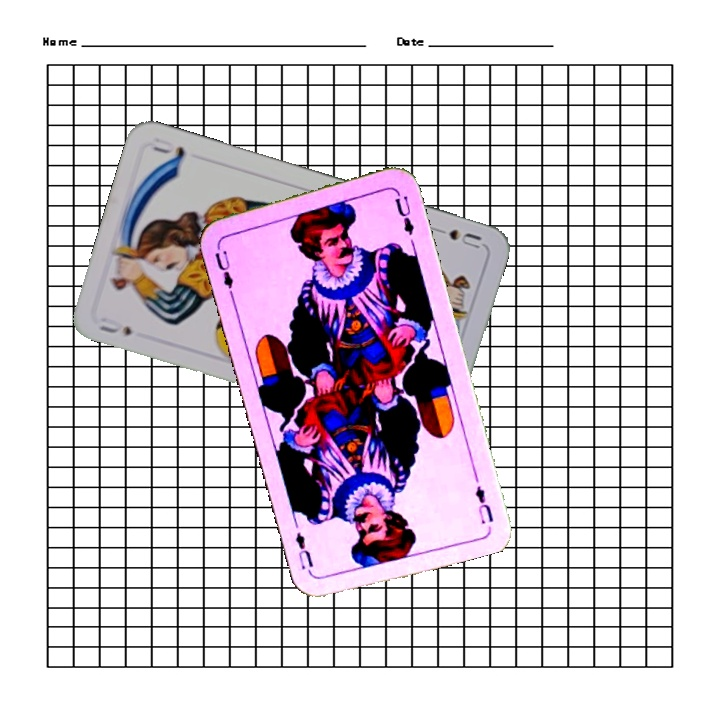EU: (211, 246, 236, 298), (471, 481, 496, 527)
SU: (427, 223, 484, 251), (94, 313, 135, 338)
